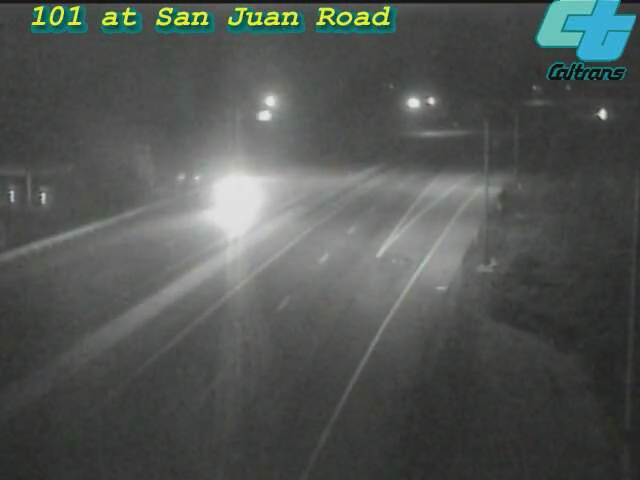vehicle: (194, 161, 274, 241), (579, 90, 629, 140)
